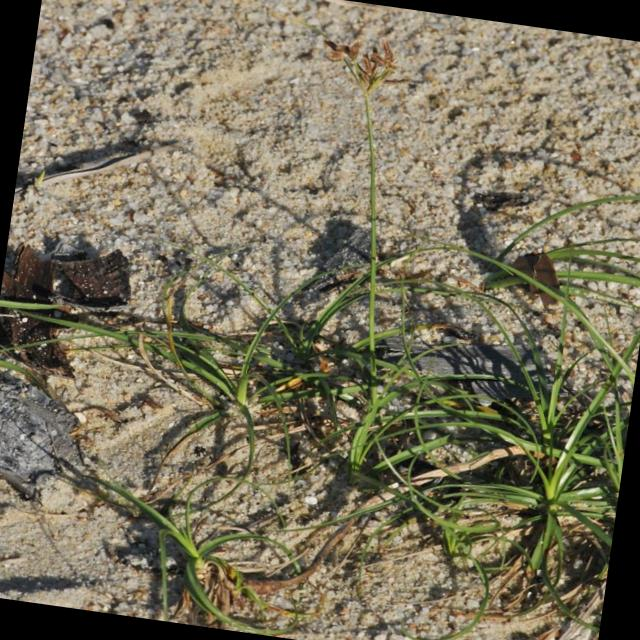cyperus: (312, 28, 416, 99)
